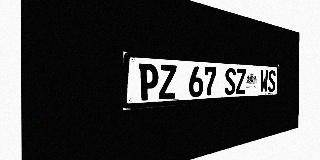6: (189, 66, 203, 97)
7: (204, 67, 216, 96)
P: (138, 63, 158, 101)
S: (225, 68, 236, 95), (268, 70, 275, 92)
W: (260, 70, 268, 93)
Z: (159, 64, 176, 99), (236, 68, 246, 94)
